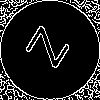Z: (25, 25, 79, 75)
